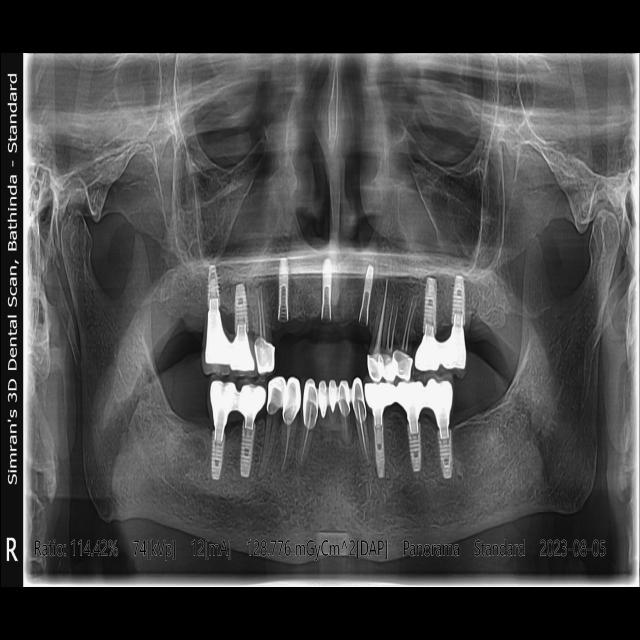Crown: (282, 377, 301, 427), (302, 379, 319, 429), (254, 335, 275, 375), (266, 377, 286, 415), (351, 377, 366, 423), (392, 350, 412, 381), (368, 354, 384, 383), (338, 381, 350, 417), (318, 381, 329, 418), (329, 379, 338, 413)
Implant: (359, 264, 374, 326), (240, 423, 255, 478), (423, 277, 436, 334), (451, 275, 465, 327), (321, 258, 332, 323), (278, 258, 289, 323), (235, 283, 249, 330), (439, 429, 452, 479), (408, 425, 421, 471), (374, 425, 385, 477), (208, 264, 220, 303)
